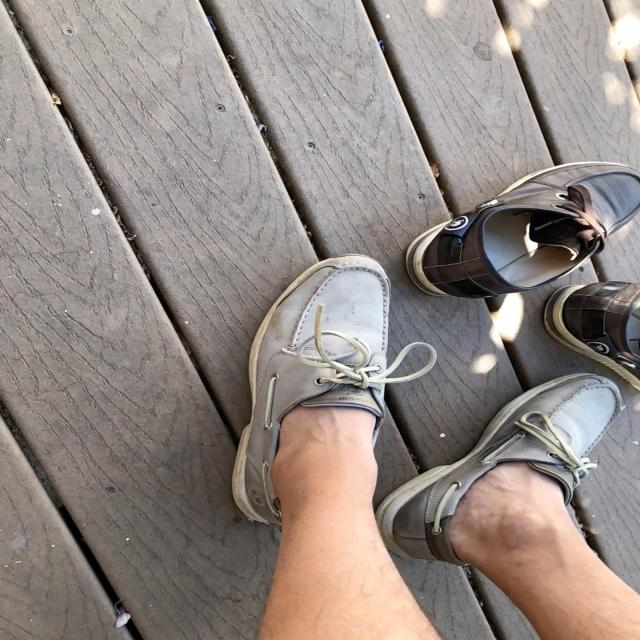shoe: (231, 256, 435, 531), (378, 375, 620, 566)
